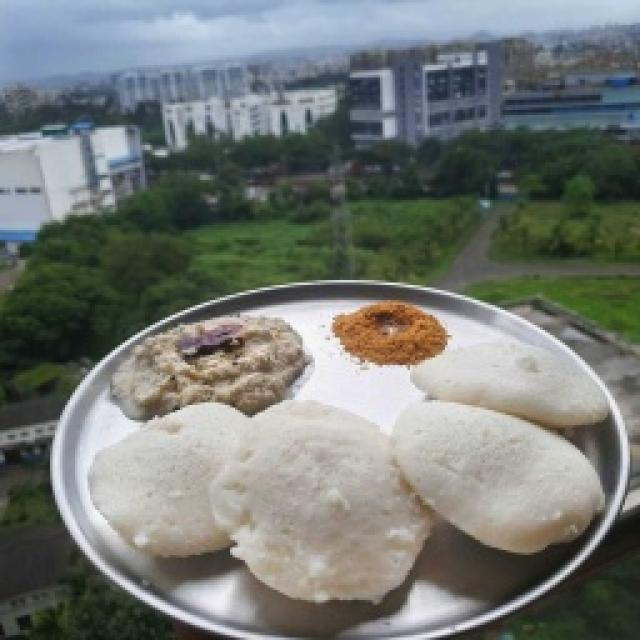idli: (106, 418, 616, 586)
